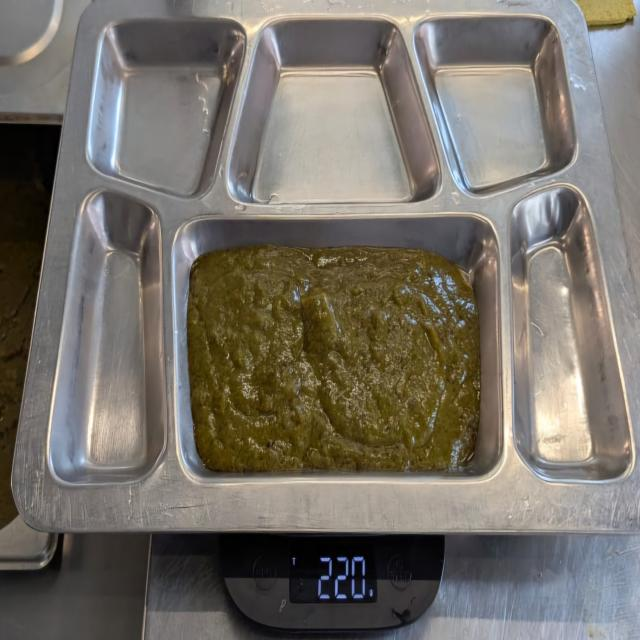Palak Paneer: (186, 240, 483, 474)
